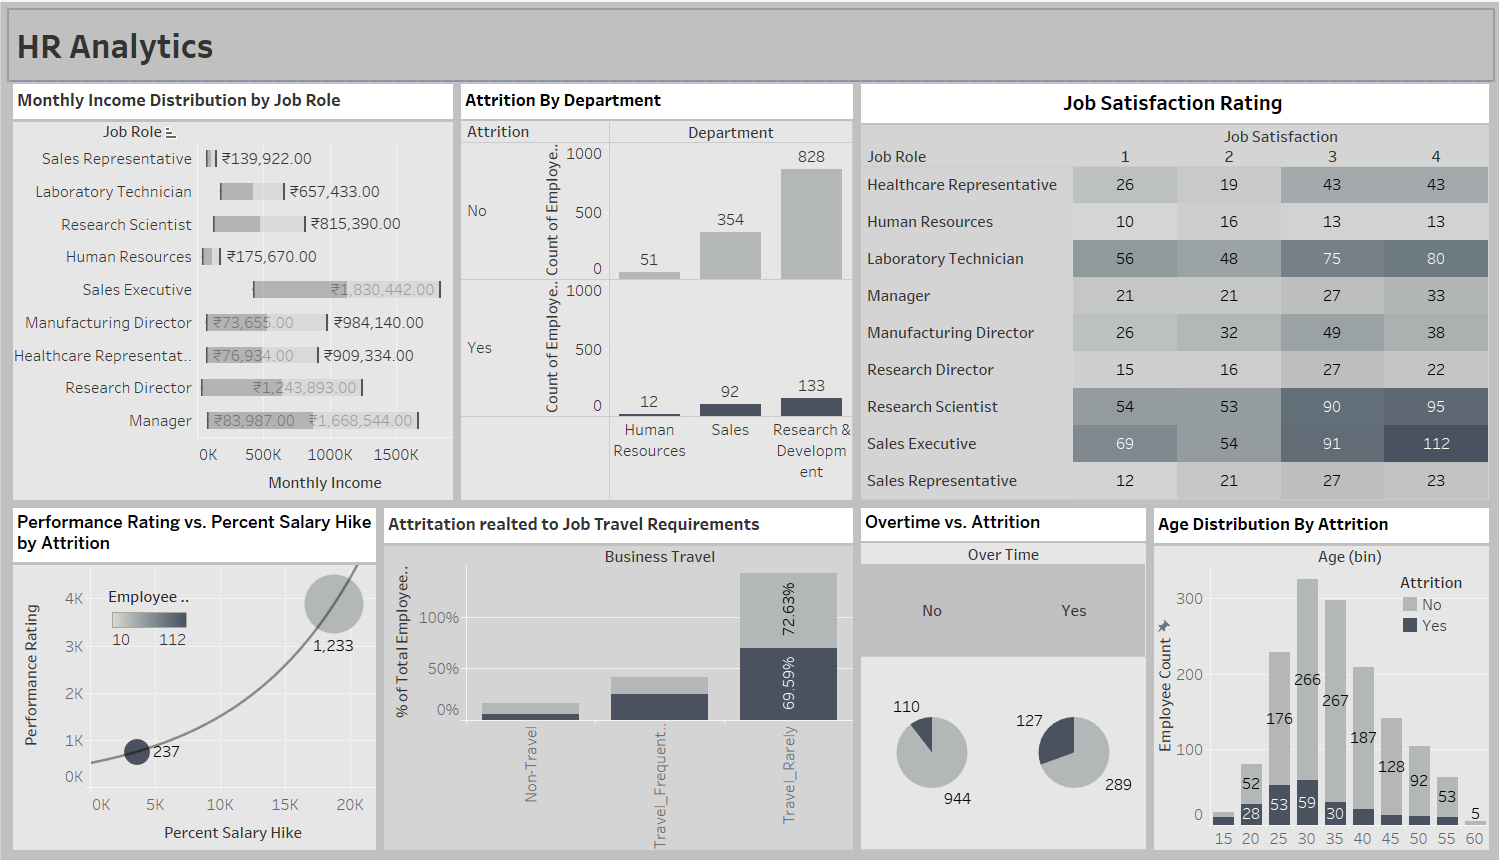

The page's visual inventory and layout, read from the dashboard file:
{"tool":"tableau","page":{"name":"Dashboard 1","canvas":[1000,1000],"units":"permille","ordinal":0},"visuals":[{"type":"title","box":[5.3,9.3,989.3,81.4]},{"type":"worksheet","title":"Monthly Income","mark":"Circle","rows":["JobRole"],"cols":["MonthlyIncome"],"box":[5.3,90.7,298.7,492.6]},{"type":"worksheet","title":"Attrition by Dept","mark":"Automatic","rows":["Attrition","EmployeeNumber"],"cols":["Department"],"box":[304,90.7,266.5,492.6]},{"type":"worksheet","title":"job satisfaction","mark":"Square","rows":["JobRole"],"cols":["JobSatisfaction"],"box":[570.5,90.7,424.2,492.7]},{"type":"worksheet","title":"Performance vv salary","mark":"Circle","rows":["PerformanceRating"],"cols":["PercentSalaryHike"],"box":[5.3,583.3,247.1,407.4]},{"type":"worksheet","title":"Job travel","mark":"Automatic","rows":["EmployeeCount"],"cols":["BusinessTravel"],"box":[252.5,583.3,318,407.4]},{"type":"worksheet","title":"Overtime","mark":"Pie","cols":["OverTime"],"box":[570.5,583.3,195.3,407.4]},{"type":"worksheet","title":"Age Distribution","mark":"Automatic","rows":["EmployeeNumber"],"cols":["Age (bin)"],"box":[765.8,583.3,228.8,407.4]},{"type":"legend","title":"Job travel","param":"[federated.0o663hi0t971lc18cwx9y10lhn8y].[none:Attrition:nk]","box":[932.7,662.8,49.3,74.4]},{"type":"legend","title":"job satisfaction","param":"[federated.0o663hi0t971lc18cwx9y10lhn8y].[sum:EmployeeCount:qk]","box":[71.3,679.1,55.3,86]}]}

Visuals, with their boxes on the dashboard's canvas, which has no fixed pixel size, in thousandths of its width and height (x1, y1, x2, y2). These are canvas units, not pixel positions in the 1499x860 screenshot, which may show the page scaled, cropped or inside an application window:
title: (5, 9, 995, 91)
"Monthly Income" worksheet (Circle marks): (5, 91, 304, 583)
"Attrition by Dept" worksheet: (304, 91, 570, 583)
"job satisfaction" worksheet (Square marks): (570, 91, 995, 583)
"Performance vv salary" worksheet (Circle marks): (5, 583, 252, 991)
"Job travel" worksheet: (252, 583, 570, 991)
"Overtime" worksheet (Pie marks): (570, 583, 766, 991)
"Age Distribution" worksheet: (766, 583, 995, 991)
"Job travel" legend: (933, 663, 982, 737)
"job satisfaction" legend: (71, 679, 127, 765)
